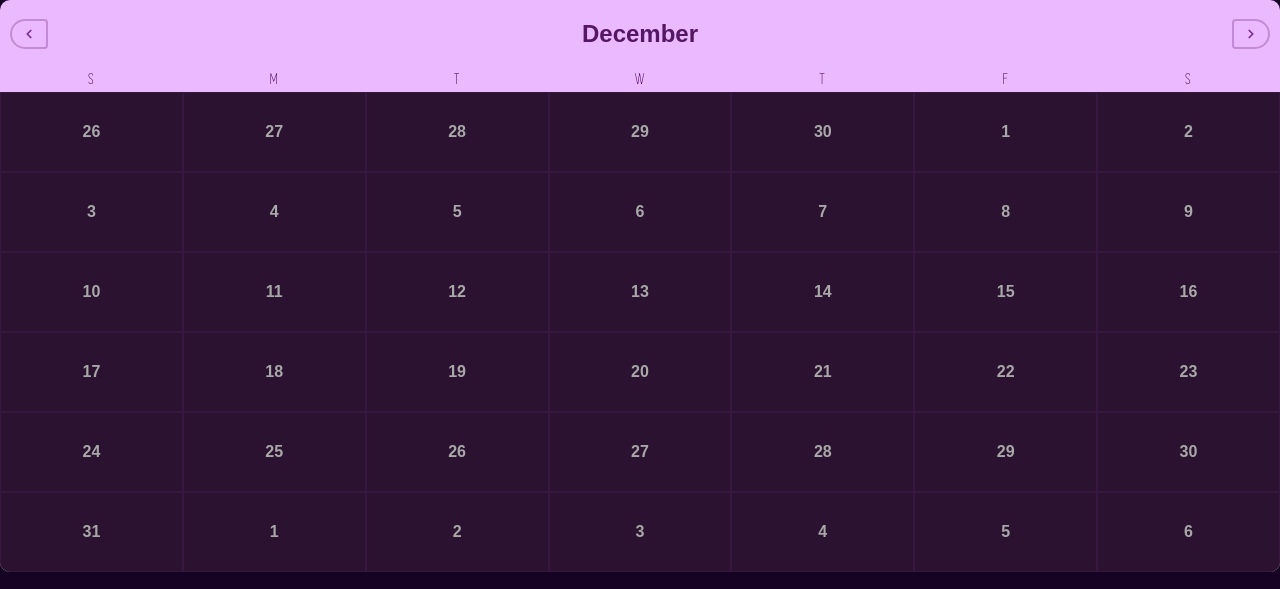
Scenario: month navigation › rolls the year forward when navigating past December, so leap-year math stays correct
Click the button named "Next month" at (1251, 34), box [1232,19,1270,49]
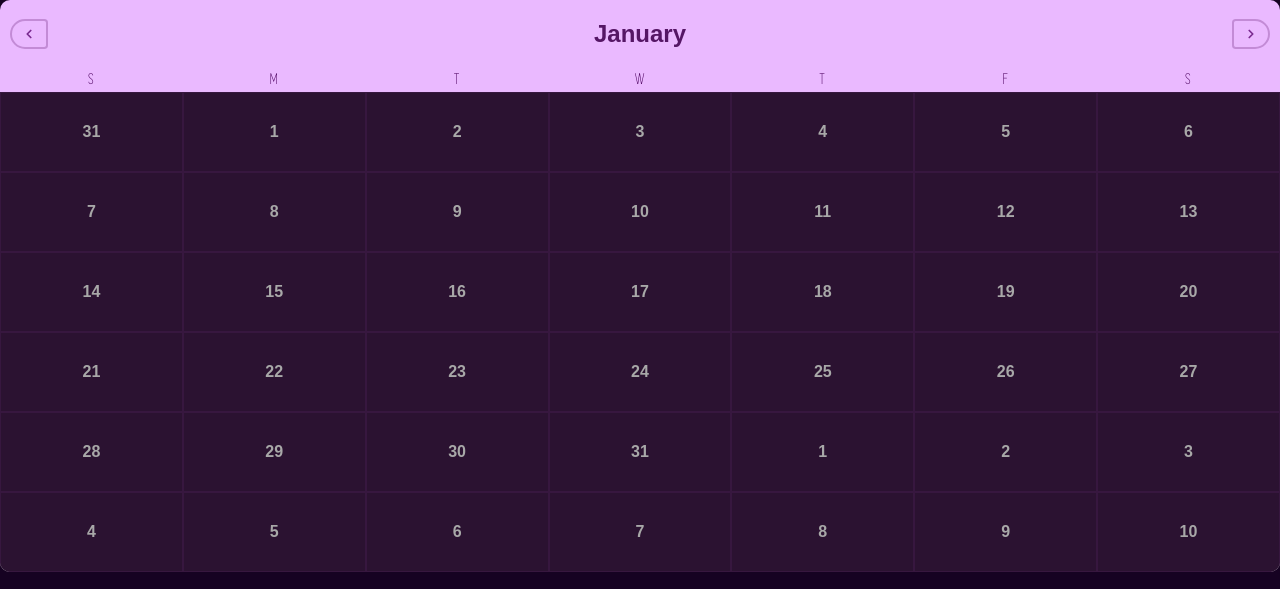
Click the button named "Next month" at (1251, 34), box [1232,19,1270,49]
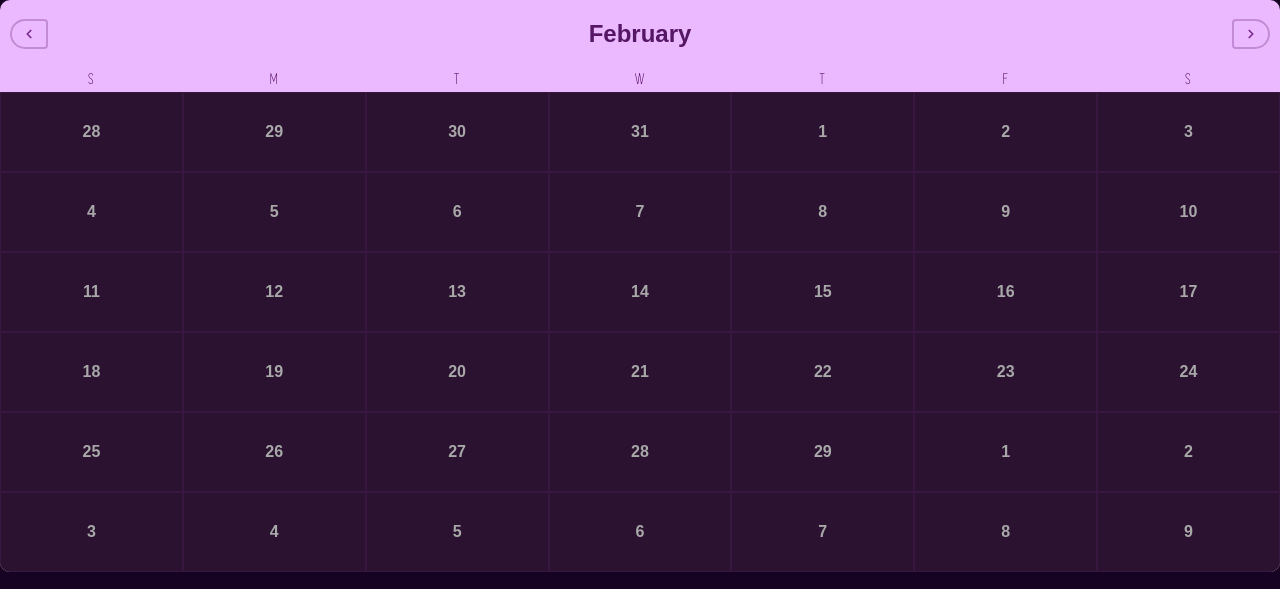
expect the heading "February" is shown: met, box [589,20,691,47]
